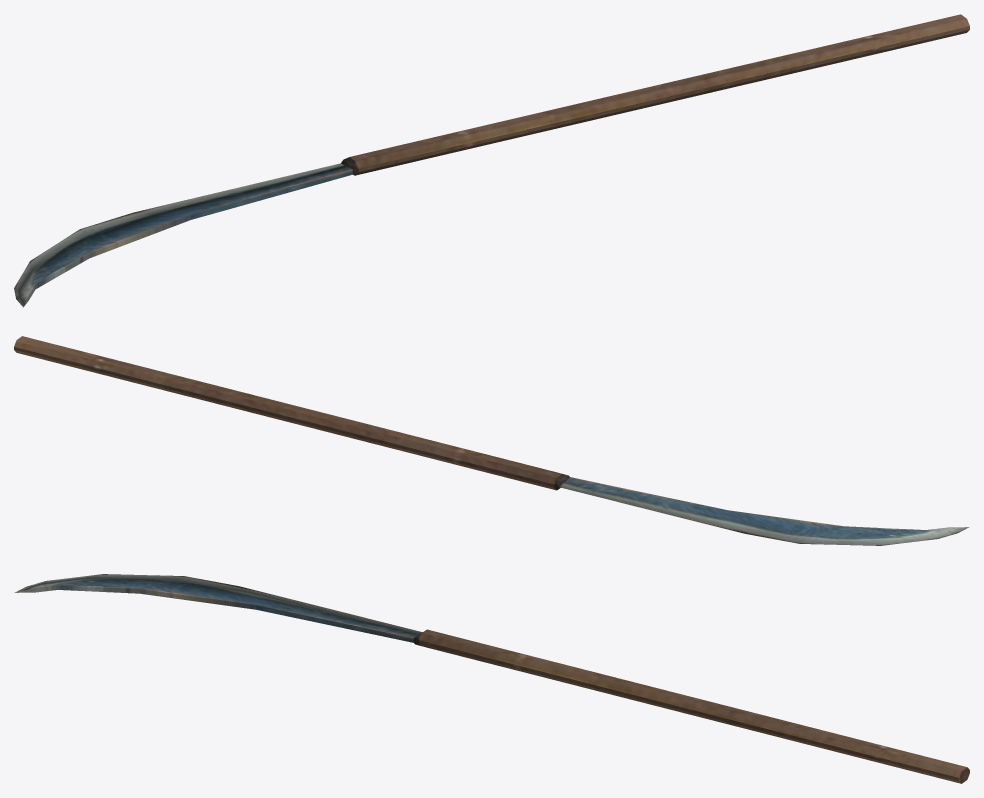
Rendered from jap-art-naginata-f.fbx.
3 renders of one model, top to bottom at view 1: azimuth 30°, elevation 25°; view 2: azimuth 150°, elevation 25°; view 3: azimuth 330°, elevation 25°, orthographic. The views are drawn at different scales.
Parts seen in each view (by area): view 1: jap-art-naginata-f; view 2: jap-art-naginata-f; view 3: jap-art-naginata-f.
Boxes of the visible parts, left/top/right/bottom form: jap-art-naginata-f: left=14, top=14, right=969, bottom=307; jap-art-naginata-f: left=14, top=336, right=969, bottom=545; jap-art-naginata-f: left=14, top=574, right=969, bottom=783.
Bounding box in the file's own units: 59.4 × 0.8 × 7.23.
